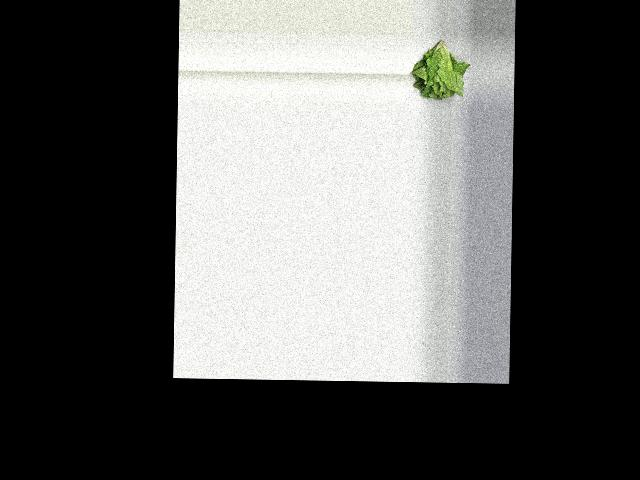lettuce: (412, 37, 464, 103)
